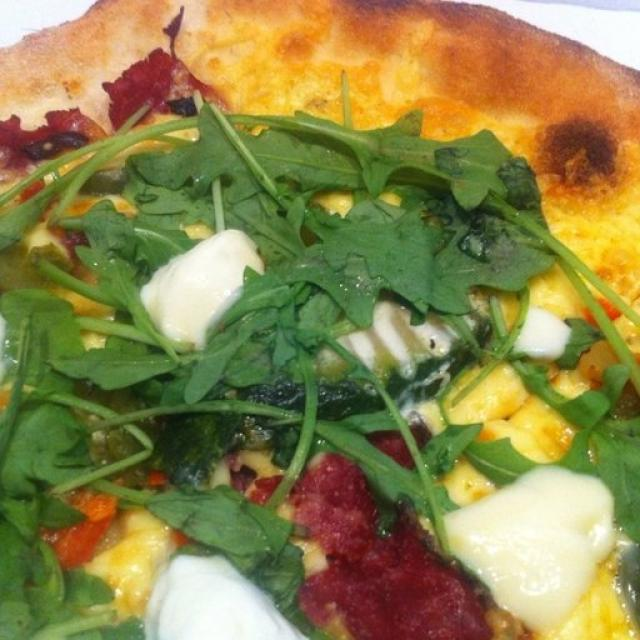Cheese: (423, 467, 614, 615), (146, 231, 258, 341), (160, 554, 281, 640), (524, 307, 563, 356)
Pizza: (0, 0, 640, 640)
Rucola: (0, 119, 640, 488)
